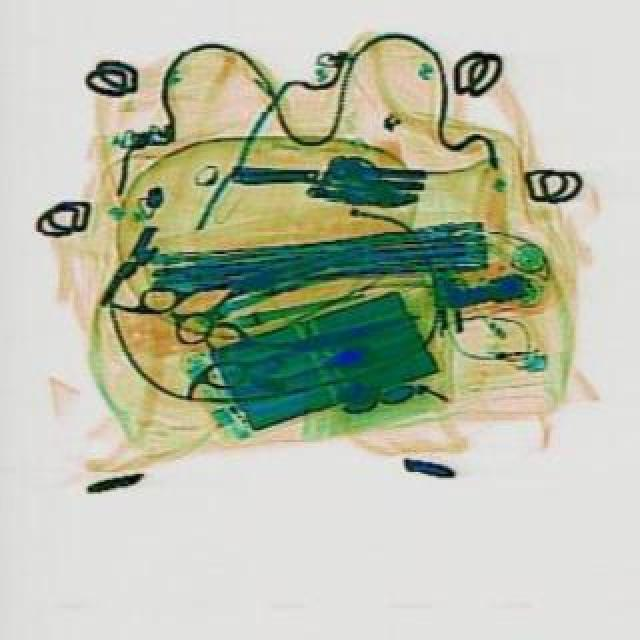pliers: (134, 238, 290, 354), (196, 306, 356, 388)
